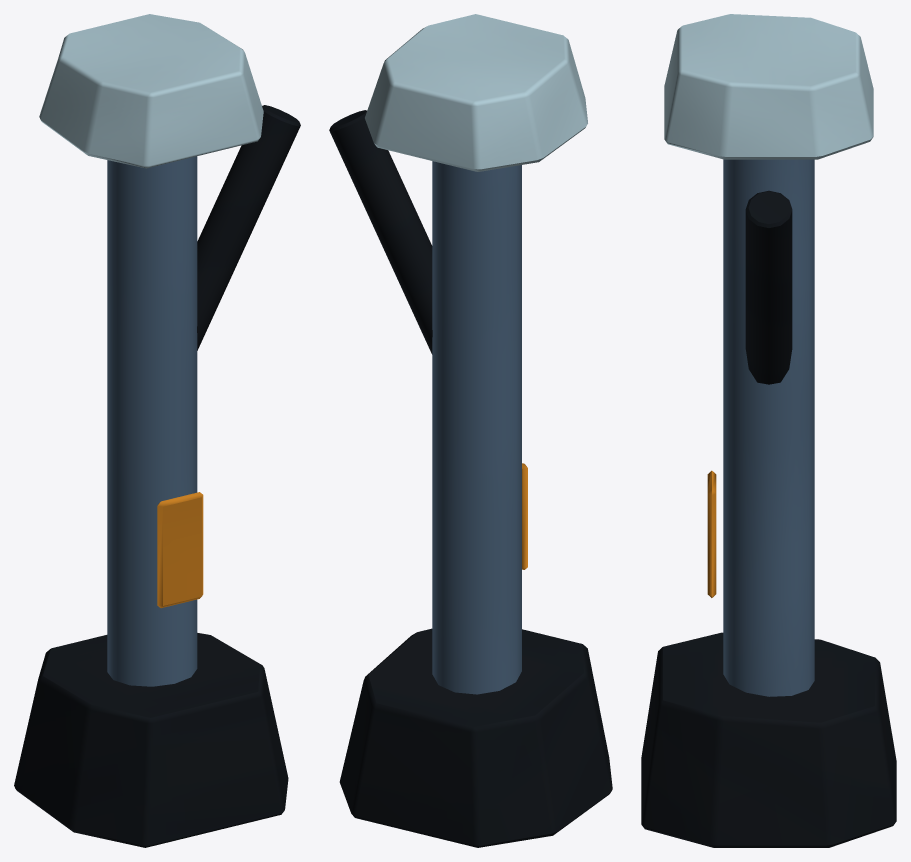
File: Structural_Support.fbx
3 renders of one model, left to right at view 1: azimuth 30°, elevation 25°; view 2: azimuth 150°, elevation 25°; view 3: azimuth 270°, elevation 25°, orthographic. The views are drawn at different scales.
Parts seen in each view (by area): view 1: Structural_Support; view 2: Structural_Support; view 3: Structural_Support.
Part boxes in pixels (x1,y1,x2,y2): Structural_Support: (14, 14, 300, 847); Structural_Support: (329, 14, 612, 847); Structural_Support: (641, 14, 896, 847).
Size of the model in its own units: 1.04 by 2.89 by 0.8959.
